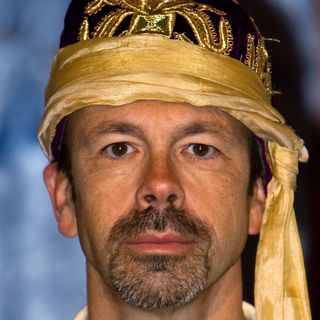eye: (94, 138, 143, 162), (173, 139, 224, 162)
